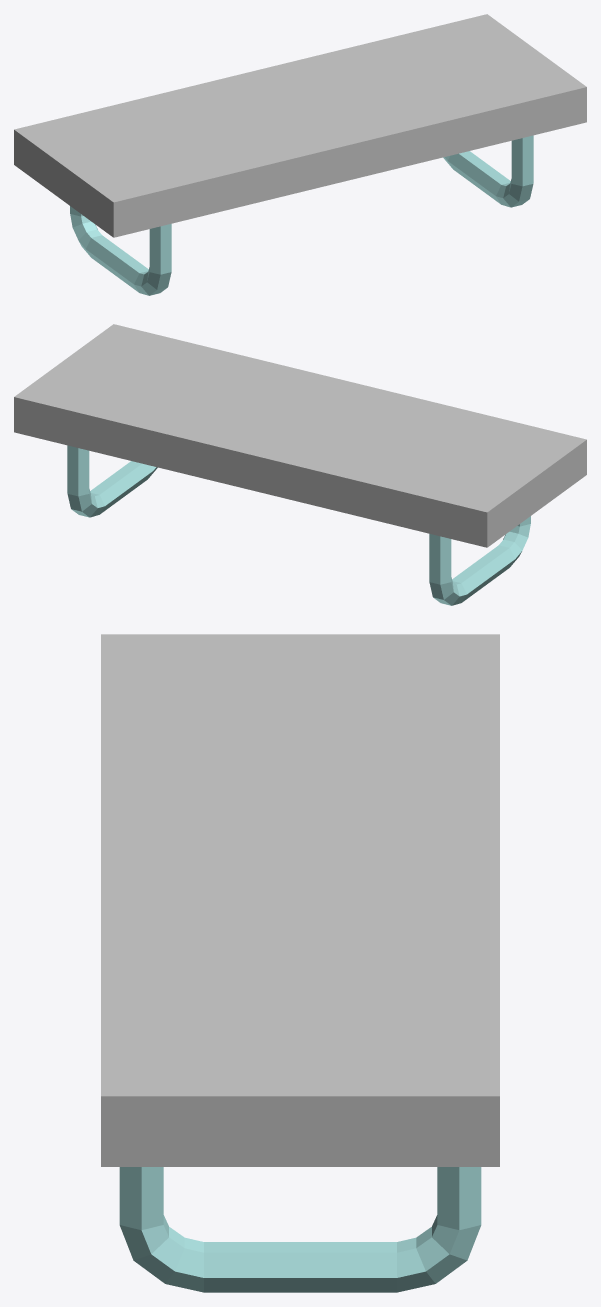
Rendered from TableWeapon.fbx.
3 renders of one model, top to bottom at view 1: azimuth 30°, elevation 25°; view 2: azimuth 150°, elevation 25°; view 3: azimuth 270°, elevation 25°, orthographic. The views are drawn at different scales.
Visible parts, largest first — view 1: Table_weapon; view 2: Table_weapon; view 3: Table_weapon.
Boxes of the visible parts, left/top/right/bottom form: Table_weapon: left=14, top=14, right=586, bottom=295; Table_weapon: left=14, top=324, right=586, bottom=605; Table_weapon: left=101, top=634, right=499, bottom=1292.
Bounding box in the file's own units: 3.68 × 0.9065 × 1.34.
